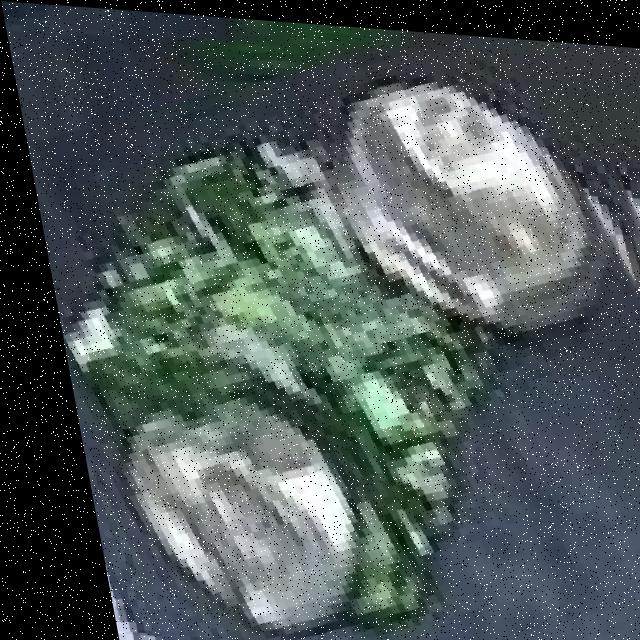litter: (32, 44, 640, 640)
